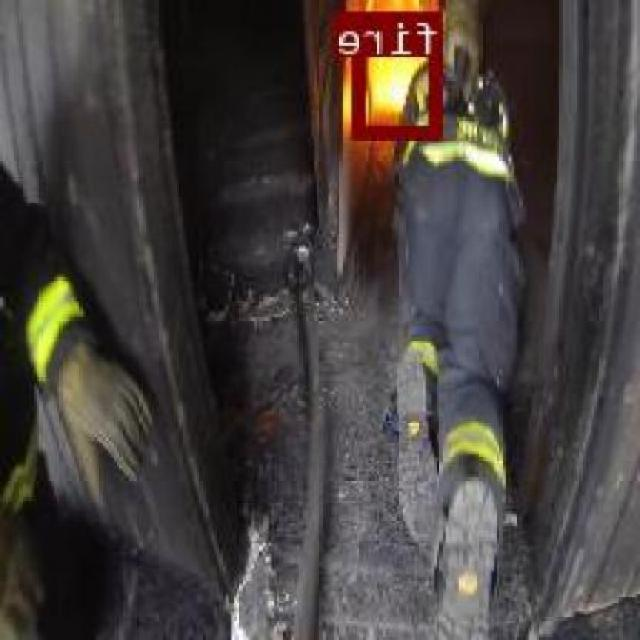Fire: (357, 10, 446, 135)
